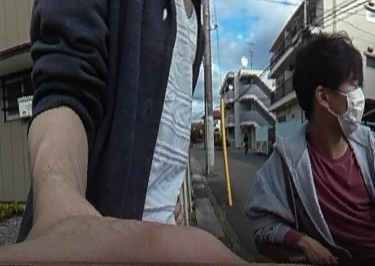person: (244, 31, 375, 266), (242, 130, 250, 155)
